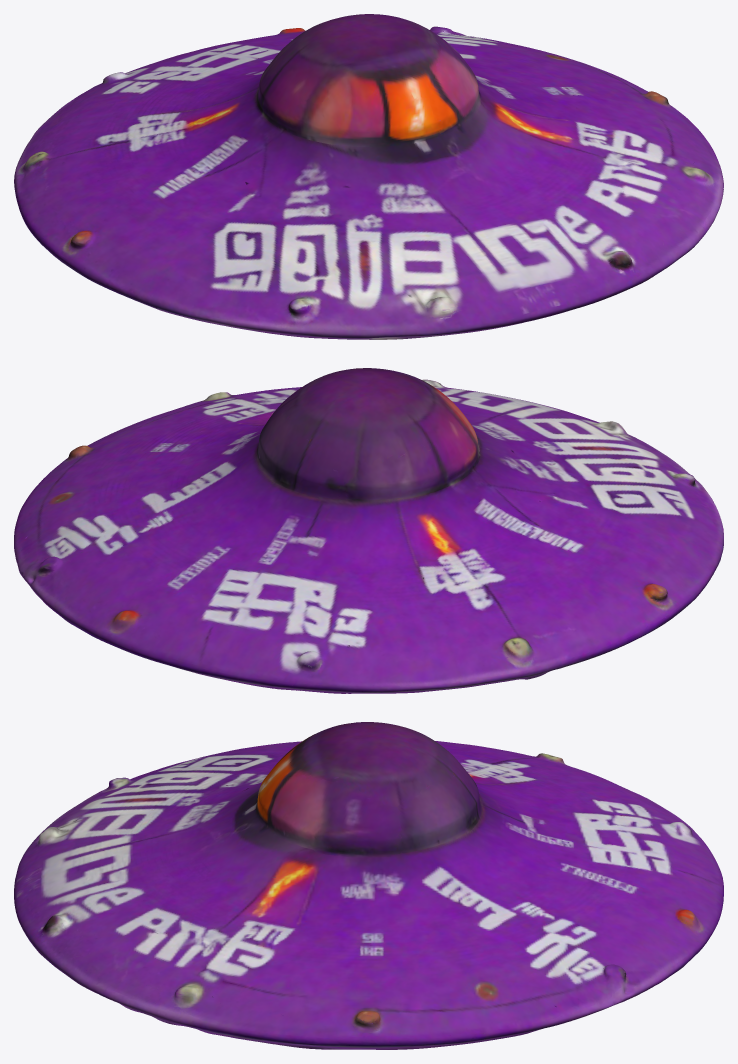
The model's file is Créer_un_ovni_0306092554_texture (1).glb.
The picture shows the model from 3 angles, top to bottom: view 1: azimuth 30°, elevation 25°; view 2: azimuth 150°, elevation 25°; view 3: azimuth 270°, elevation 25°; orthographic projection.
Bounding box in the file's own units: 2 × 0.8061 × 2.
1 material, 1 textured.
